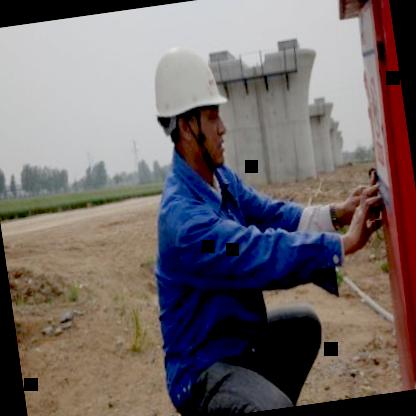helmet: (140, 32, 238, 174)
